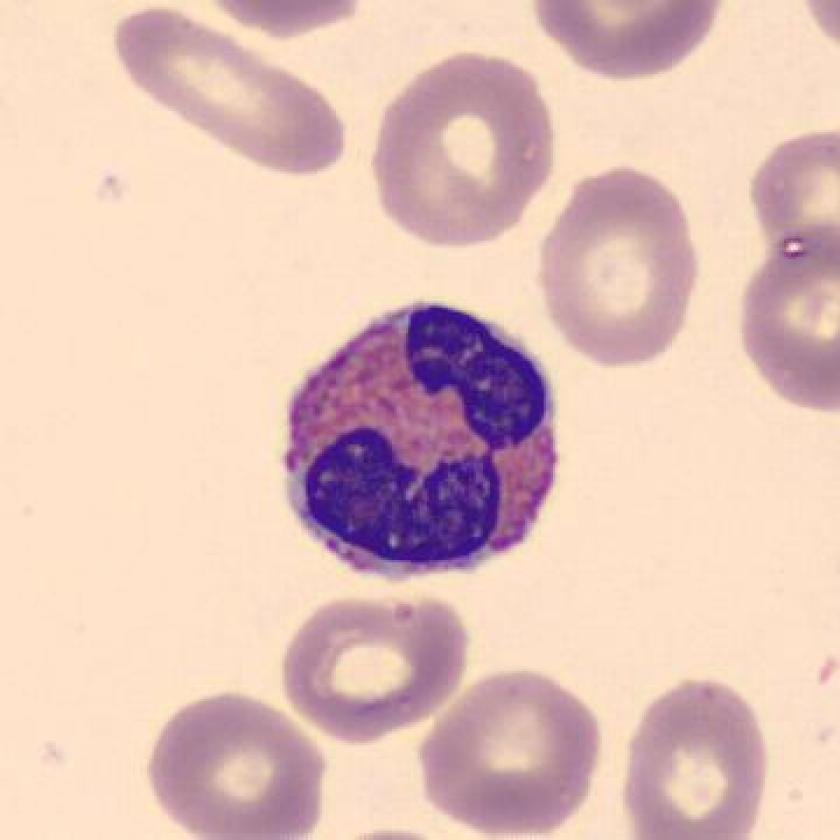eosinophil: (263, 288, 578, 593)
